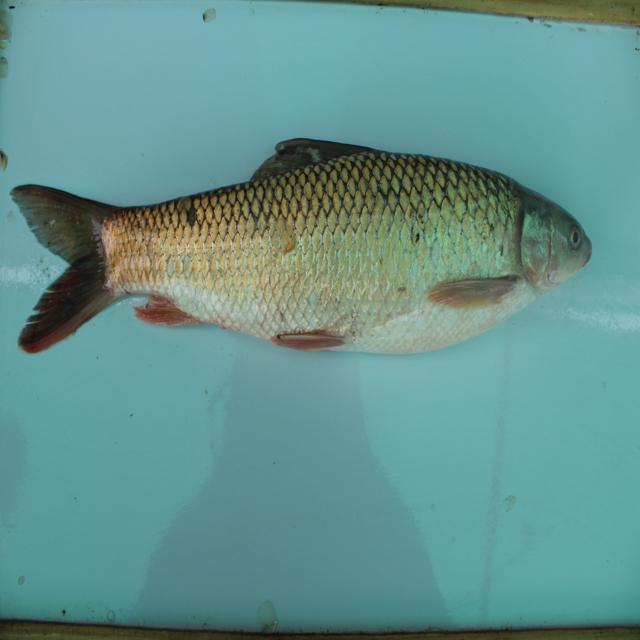Mori: (13, 120, 594, 391)
